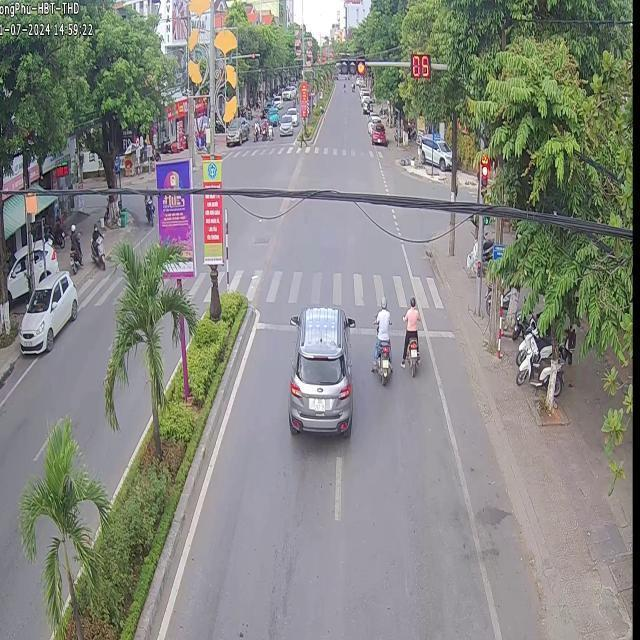car: (287, 305, 353, 436), (18, 269, 77, 350)
motobike: (376, 340, 390, 382), (404, 336, 418, 376)
red_light: (409, 53, 431, 82), (338, 57, 368, 74), (480, 151, 487, 195)
stop_line: (256, 320, 294, 330), (348, 325, 373, 335)
